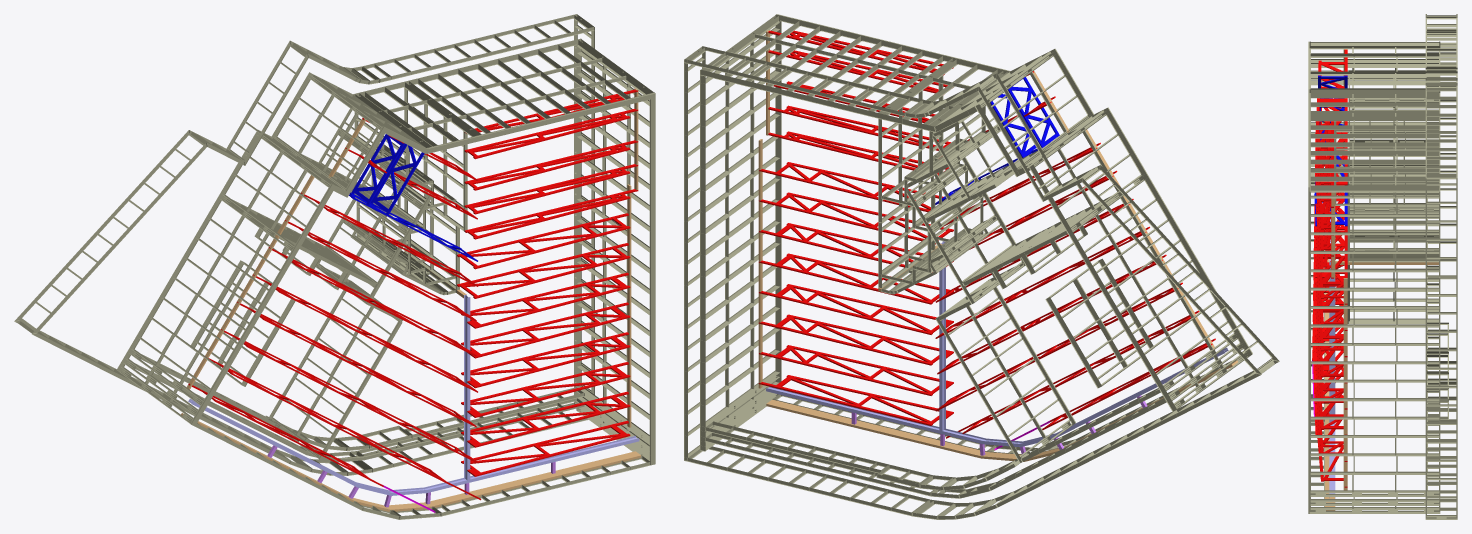
3 renders of one model, left to right at view 1: azimuth 30°, elevation 25°; view 2: azimuth 150°, elevation 25°; view 3: azimuth 270°, elevation 25°, orthographic. The views are drawn at different scales.
Visible parts, largest first — view 1: Shell 320, Shell 1253, Shell 227, Shell 717, Shell 228, Shell 1252, Shell 321, Shell 718, Shell 1247, Shell 1264, Shell 1266, Shell 39 (+10 smaller); view 2: Shell 321, Shell 1253, Shell 228, Shell 839, Shell 718, Shell 319, Shell 227, Shell 1252, Shell 408, Shell 1264, Shell 40, Shell 39 (+15 smaller); view 3: Shell 1264, Shell 729, Shell 723, Shell 726, Shell 721, Shell 728, Shell 719, Shell 838, Shell 839, Shell 320, Shell 319, Shell 724 (+77 smaller).
Part boxes in pixels (<box>): Shell 320: <box>650,98,655,465</box>; Shell 1253: <box>429,451,641,507</box>; Shell 227: <box>191,184,335,426</box>; Shell 717: <box>426,93,655,153</box>; Shell 228: <box>117,130,260,370</box>; Shell 1252: <box>424,436,639,492</box>; Shell 321: <box>576,45,581,410</box>; Shell 718: <box>353,38,580,95</box>; Shell 1247: <box>464,294,470,480</box>; Shell 1264: <box>627,184,631,427</box>; Shell 1266: <box>186,175,314,389</box>; Shell 39: <box>32,143,207,334</box>; Shell 321: <box>700,75,705,451</box>; Shell 1253: <box>766,399,986,458</box>; Shell 228: <box>1028,163,1176,411</box>; Shell 839: <box>684,63,687,461</box>; Shell 718: <box>700,70,935,132</box>; Shell 319: <box>775,21,780,394</box>; Shell 227: <box>1104,107,1252,354</box>; Shell 1252: <box>766,386,986,443</box>; Shell 408: <box>996,373,1260,507</box>; Shell 1264: <box>758,139,762,388</box>; Shell 40: <box>1082,178,1261,374</box>; Shell 39: <box>1099,165,1279,361</box>; Shell 1264: <box>1343,278,1347,490</box>; Shell 729: <box>1310,186,1439,191</box>; Shell 723: <box>1310,142,1439,147</box>; Shell 726: <box>1310,116,1439,121</box>; Shell 721: <box>1310,159,1439,164</box>; Shell 728: <box>1310,93,1439,98</box>; Shell 719: <box>1310,176,1439,181</box>; Shell 838: <box>1425,178,1426,519</box>; Shell 839: <box>1456,178,1457,519</box>; Shell 320: <box>1308,191,1309,513</box>; Shell 319: <box>1309,191,1310,513</box>; Shell 724: <box>1310,134,1439,138</box>.
Size of the model in its own units: 16891 by 12467 by 4400.
